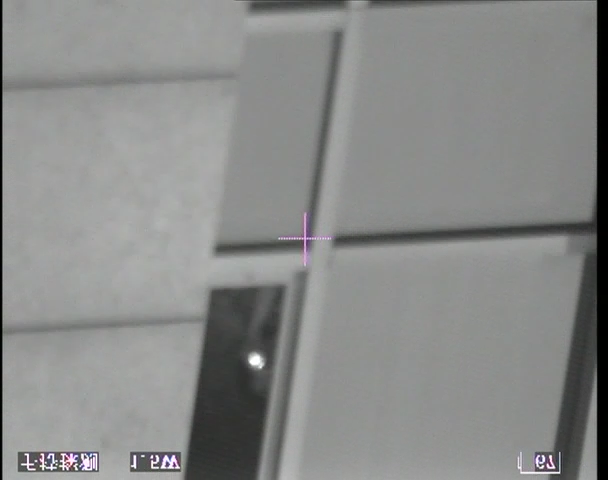my: (246, 351, 266, 370)
